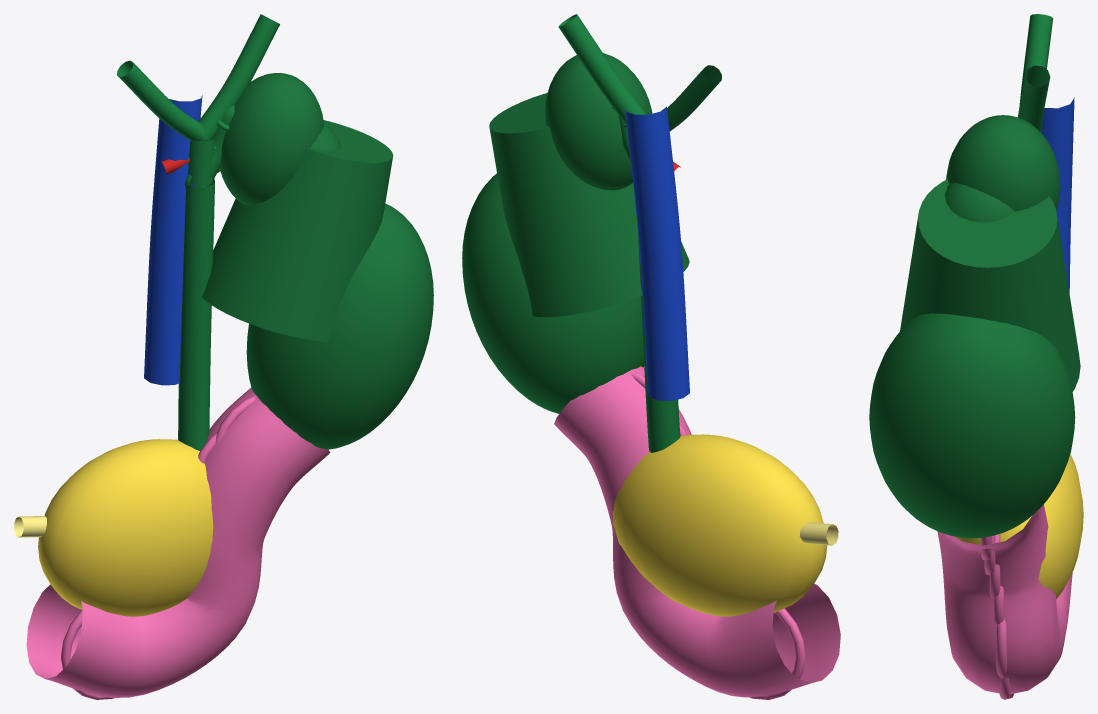
Rendered from gallbladder.glb.
3 views of the same model, side by side, from view 1: azimuth 30°, elevation 25°; view 2: azimuth 150°, elevation 25°; view 3: azimuth 270°, elevation 25° (orthographic). The views are drawn at different scales.
Parts seen in each view (by area): view 1: duodenum_c_loop, pancreas_head, gallbladder_corpus, gallbladder_fundus, gallbladder_collum, portal_vein, common_bile_duct, right_hepatic_duct, left_hepatic_duct, common_hepatic_duct, plicae_circulares_7, pancreatic_duct; view 2: pancreas_head, duodenum_c_loop, gallbladder_corpus, gallbladder_fundus, portal_vein, gallbladder_collum, right_hepatic_duct, common_bile_duct, left_hepatic_duct, plicae_circulares_7, pancreatic_duct; view 3: gallbladder_fundus, gallbladder_corpus, duodenum_c_loop, gallbladder_collum, pancreas_head, portal_vein, hartmann_pouch, right_hepatic_duct, left_hepatic_duct, plicae_circulares_4, plicae_circulares_2, plicae_circulares_3.
Part boxes in pixels (x1,y1,x2,y2): duodenum_c_loop: (26,388,330,697); pancreas_head: (38,439,213,616); gallbladder_corpus: (202,120,393,342); gallbladder_fundus: (246,203,433,449); gallbladder_collum: (220,73,323,204); portal_vein: (144,95,202,385); common_bile_duct: (178,179,214,450); right_hepatic_duct: (199,14,279,140); left_hepatic_duct: (117,60,206,141); common_hepatic_duct: (188,138,214,185); plicae_circulares_7: (61,610,114,699); pancreatic_duct: (14,516,46,537); pancreas_head: (612,434,827,616); duodenum_c_loop: (554,366,840,697); gallbladder_corpus: (489,93,689,317); gallbladder_fundus: (462,173,644,413); portal_vein: (625,106,689,400); gallbladder_collum: (545,53,652,190); right_hepatic_duct: (558,14,646,125); common_bile_duct: (637,229,680,452); left_hepatic_duct: (667,65,721,131); plicae_circulares_7: (749,608,805,699); pancreatic_duct: (799,522,838,545); gallbladder_fundus: (869,313,1075,538); gallbladder_corpus: (900,179,1080,391); duodenum_c_loop: (937,504,1072,694); gallbladder_collum: (946,115,1060,211); pancreas_head: (955,454,1083,598); portal_vein: (1041,97,1074,293); hartmann_pouch: (945,183,1014,222); right_hepatic_duct: (1018,65,1050,132); left_hepatic_duct: (1019,14,1053,104); plicae_circulares_4: (996,620,1006,678); plicae_circulares_2: (989,534,1000,598); plicae_circulares_3: (993,586,1004,624).
Bounding box in the file's own units: 2.47 × 3.98 × 1.11.
